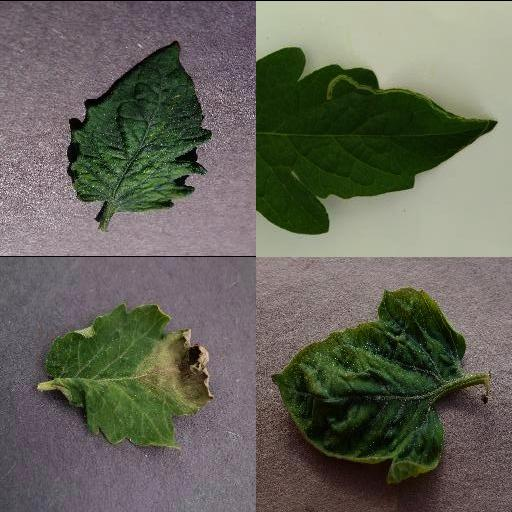Late Blight: (45, 303, 215, 447)
Leaf Miner: (256, 46, 500, 234)
Mosaic Virus: (66, 38, 212, 212)
Yellow Leaf Curl Virus: (271, 287, 473, 486)
